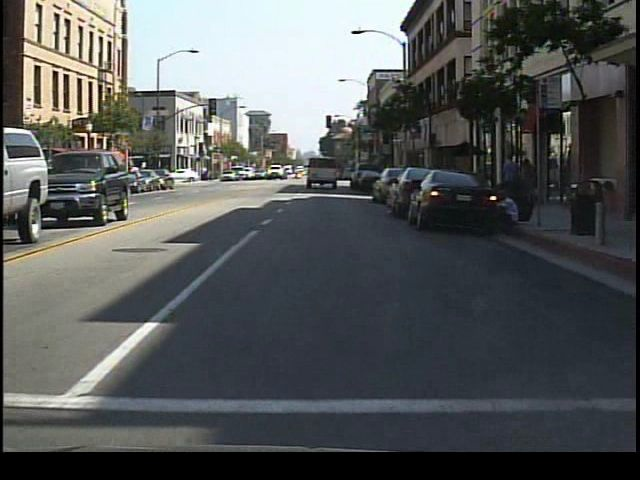person: (496, 145, 522, 212), (515, 154, 539, 210)
